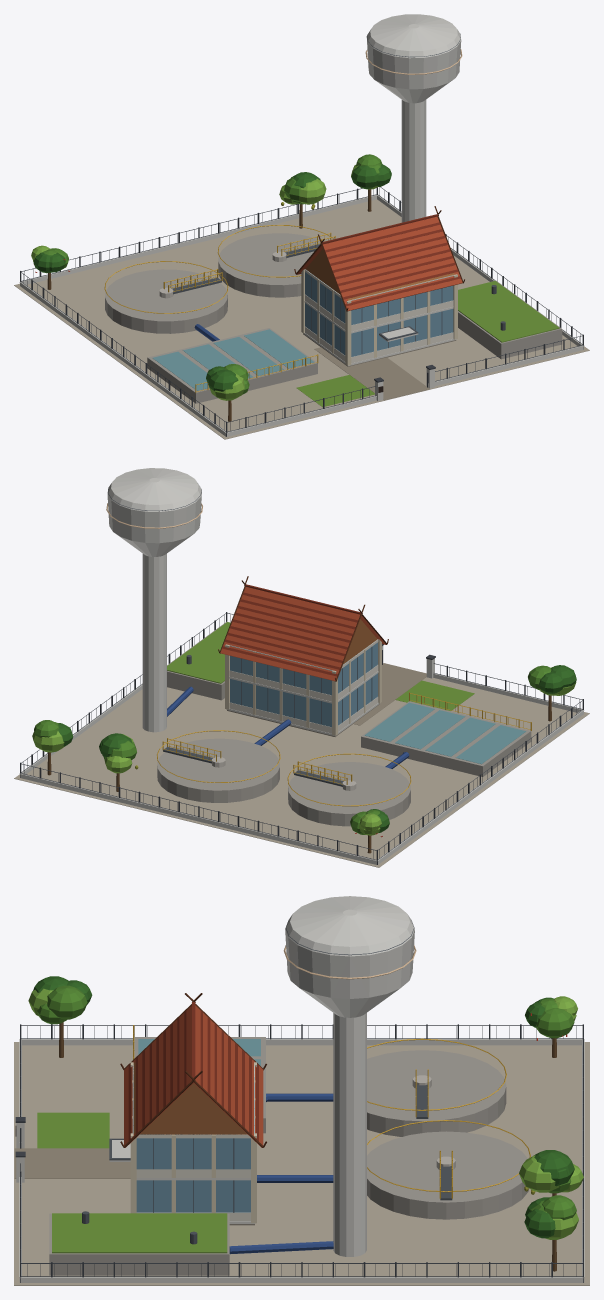
The model's file is water_works.glb.
3 views of the same model, one above another, from view 1: azimuth 30°, elevation 25°; view 2: azimuth 150°, elevation 25°; view 3: azimuth 270°, elevation 25° (orthographic). The views are drawn at different scales.
Visible parts, largest first — view 1: body; view 2: body; view 3: body.
Boxes of the visible parts, <box> form: body: <box>14,14,589,439</box>; body: <box>14,468,589,867</box>; body: <box>14,896,589,1285</box>.
Bounding box in the file's own units: 47.9 × 31.03 × 47.9.
